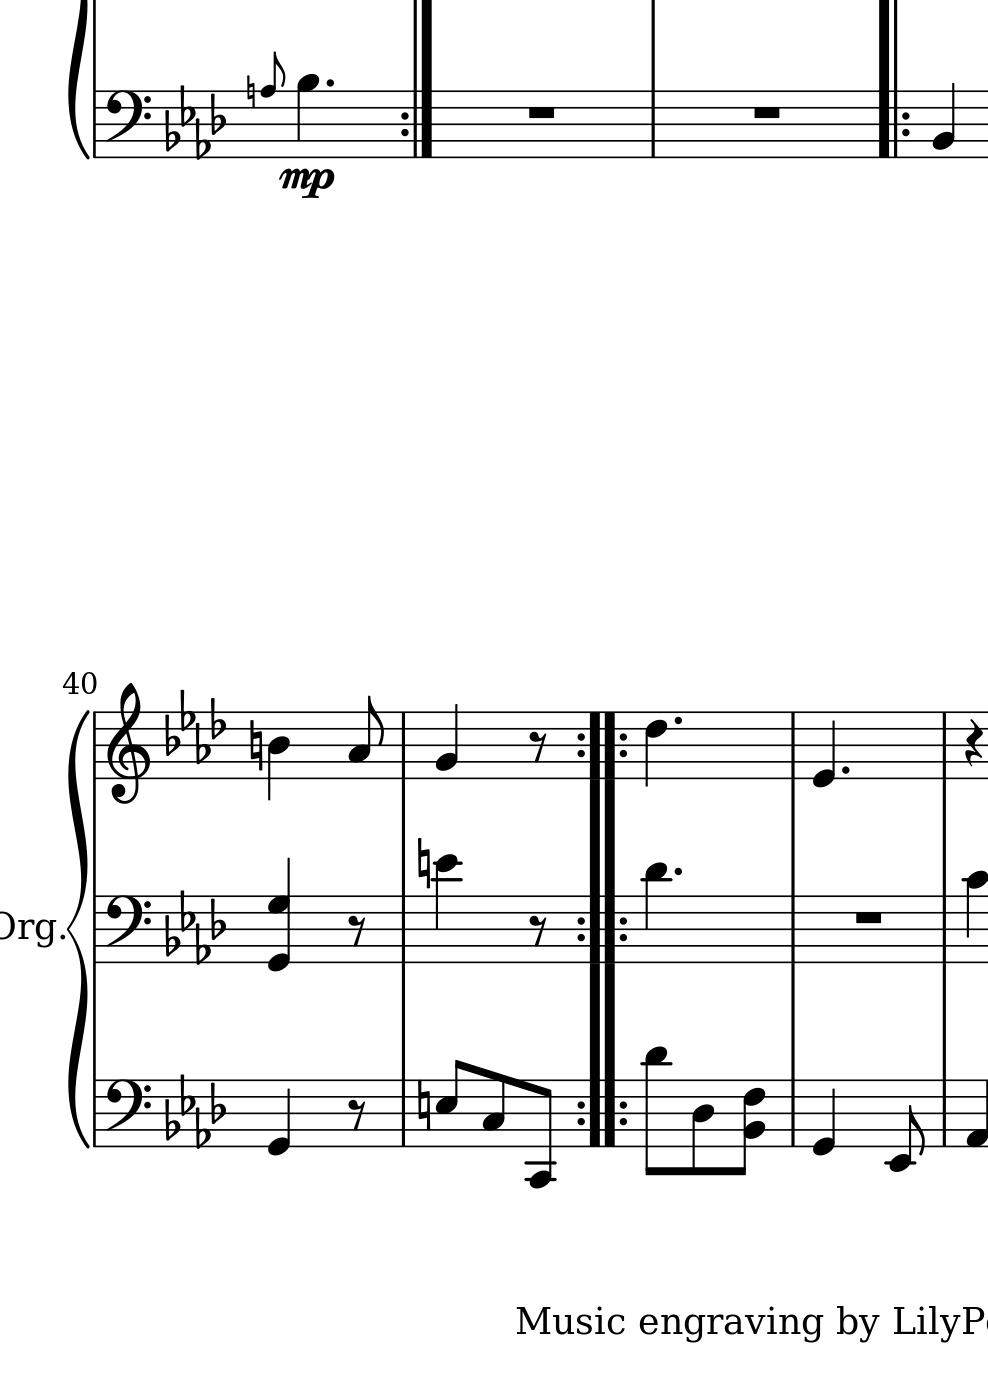0: (80, 669, 97, 697)
4: (62, 669, 78, 698)
4_0: (811, 709, 837, 788), (811, 1078, 836, 1158), (266, 1077, 291, 1157)
4_0_7: (265, 857, 293, 972)
4_10: (961, 868, 988, 967)
4_11: (640, 862, 669, 966)
4_12: (431, 854, 462, 966)
4_2: (434, 702, 460, 781), (932, 80, 957, 161)
4_4: (266, 710, 290, 802)
4_6: (643, 710, 667, 788)
4_9: (294, 72, 320, 159)
8_-2: (883, 1076, 926, 1174)
8_-4: (526, 1076, 556, 1189)
8_11: (640, 1044, 671, 1180)
8_2_6: (735, 1078, 766, 1178)
8_3: (346, 694, 384, 780), (480, 1069, 506, 1149)
8_4: (689, 1077, 715, 1179)
8_5: (433, 1058, 465, 1148)
A_F: (163, 687, 231, 767), (163, 887, 229, 964), (163, 82, 223, 159), (161, 1071, 219, 1149)
Appoggiature: (258, 49, 289, 160)
Brace: (63, 712, 90, 1155)
Fclef: (103, 88, 152, 161), (103, 892, 151, 964), (103, 1077, 151, 1149)
Gclef: (105, 681, 150, 805)
LeftRepeatSign: (873, 89, 912, 159)
Natural: (414, 1078, 433, 1132), (247, 718, 263, 773), (416, 837, 431, 892), (243, 73, 257, 111)
Rests1: (524, 103, 558, 121), (750, 103, 783, 121), (851, 909, 885, 926)
Rests4: (963, 717, 983, 769)
Rests8: (345, 912, 367, 947), (345, 1097, 367, 1132), (527, 913, 549, 947), (528, 729, 549, 764)
RightAndLeftRepeatSign: (574, 711, 631, 778), (574, 1078, 630, 1146), (575, 896, 630, 962)
RightRepeatSign: (397, 90, 437, 157)
Single_barline: (643, 91, 662, 158), (783, 712, 802, 778), (783, 896, 802, 962), (935, 896, 954, 962), (393, 712, 412, 779), (393, 896, 412, 962), (936, 712, 953, 779), (393, 1078, 411, 1146), (784, 1080, 801, 1147), (936, 1080, 952, 1146), (88, 712, 102, 780), (89, 91, 103, 158), (89, 896, 102, 963), (89, 1080, 102, 1147)
dot: (671, 713, 685, 728), (838, 762, 852, 777), (670, 865, 684, 880), (322, 77, 336, 91)
mp: (276, 166, 336, 204)
